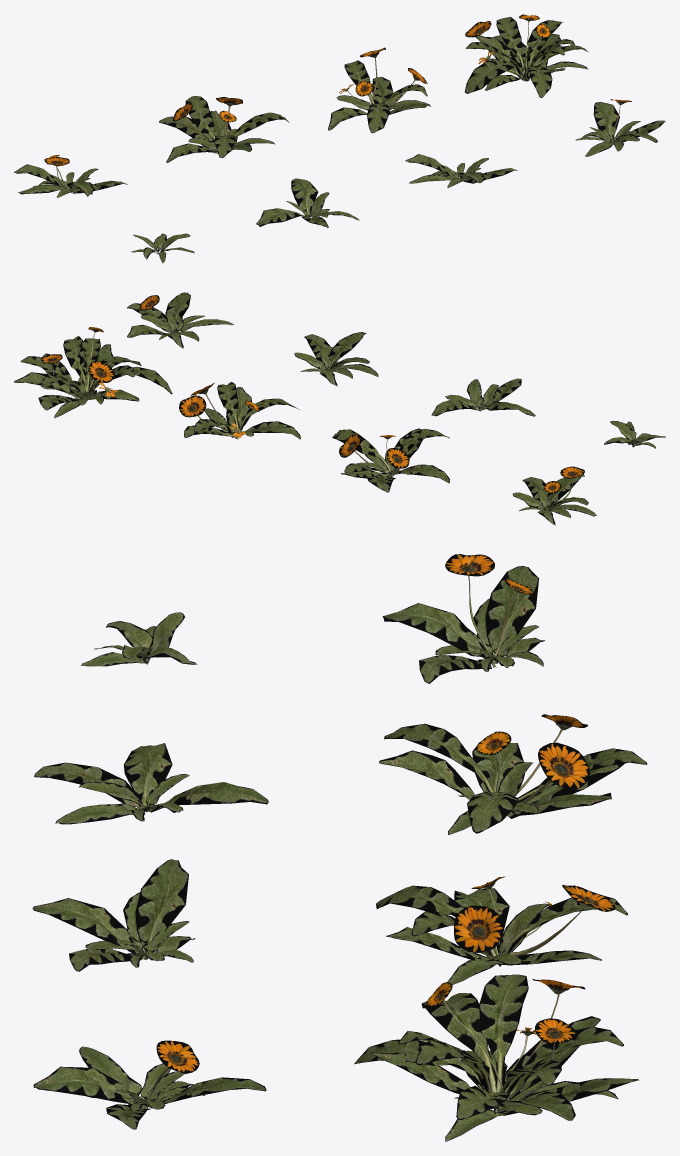
File: flower_02.glb
3 views of the same model, one above another, from view 1: azimuth 30°, elevation 25°; view 2: azimuth 150°, elevation 25°; view 3: azimuth 270°, elevation 25° (orthographic). The views are drawn at different scales.
Parts seen in each view (by area): view 1: flower_gazania_a_LOD0; view 2: flower_gazania_a_LOD0; view 3: flower_gazania_a_LOD0.
Boxes of the visible parts, box(x1,y1,x2,y2) form: flower_gazania_a_LOD0: box(14, 14, 665, 262); flower_gazania_a_LOD0: box(14, 292, 665, 525); flower_gazania_a_LOD0: box(32, 554, 647, 1141).
Bounding box in the file's own units: 1.48 × 0.1656 × 0.7028.
1 material, 1 textured.
